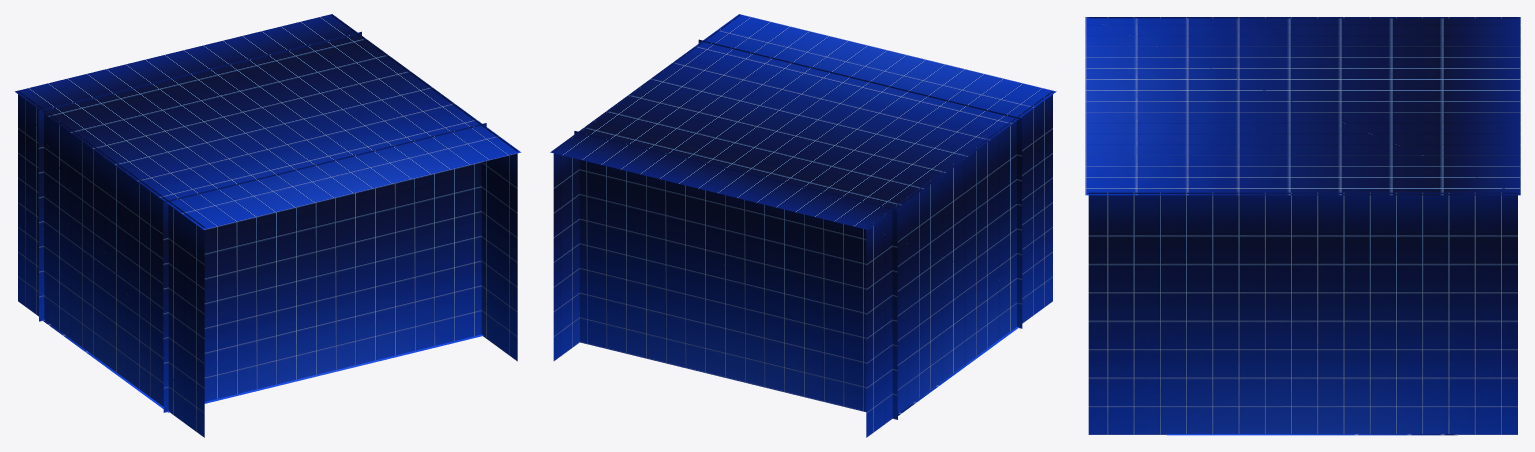
Rendered from Stage0_3D.glb.
3 renders of one model, left to right at view 1: azimuth 30°, elevation 25°; view 2: azimuth 150°, elevation 25°; view 3: azimuth 270°, elevation 25°, orthographic. The views are drawn at different scales.
Parts seen in each view (by area): view 1: Plane.001, Plane; view 2: Plane.001, Plane; view 3: Plane.001, Plane.
Part boxes in pixels (<box>): Plane.001: <box>15,14,521,437</box>; Plane: <box>42,319,483,412</box>; Plane.001: <box>550,14,1056,437</box>; Plane: <box>582,326,1019,418</box>; Plane.001: <box>1085,17,1520,434</box>; Plane: <box>1166,434,1457,435</box>.
Bounding box in the file's own units: 39.08 × 24.36 × 39.61.
2 materials, 2 textured.
